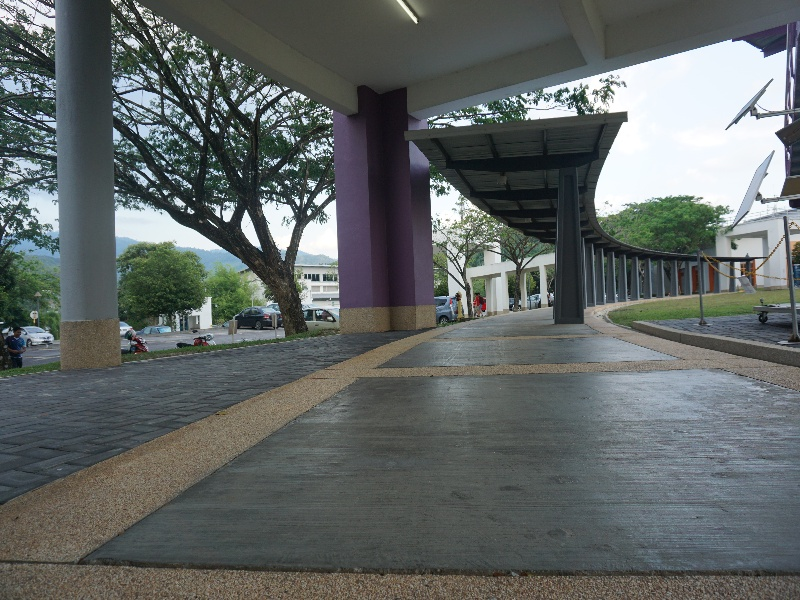pillar: (42, 1, 135, 357), (333, 72, 435, 344), (552, 155, 591, 330)
